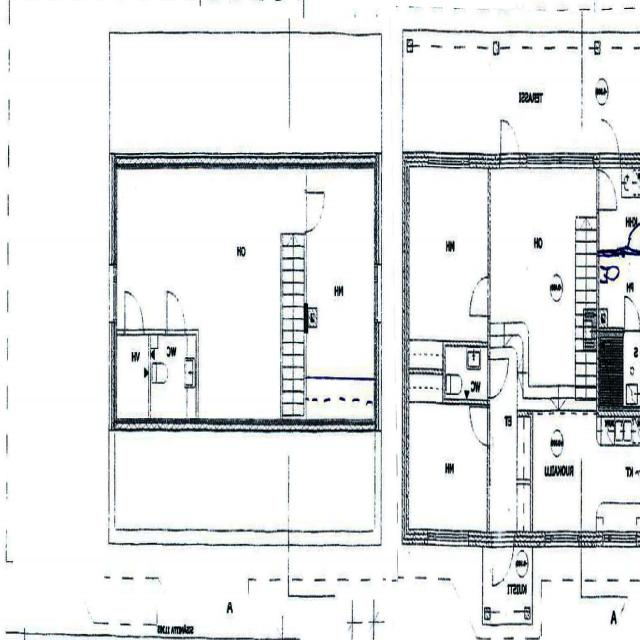door: (493, 532, 513, 590), (600, 112, 619, 167), (501, 113, 519, 167), (596, 170, 618, 210), (468, 277, 489, 316), (487, 359, 508, 397), (167, 291, 185, 335), (125, 291, 143, 335), (469, 408, 490, 445), (304, 193, 324, 231), (624, 294, 640, 336), (626, 218, 640, 256)
